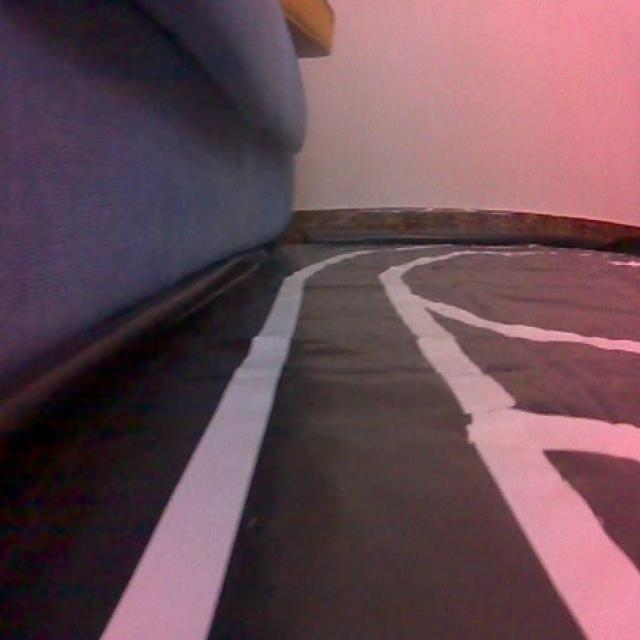LineaCarril: (98, 251, 365, 640), (381, 251, 640, 640), (423, 301, 640, 351)
